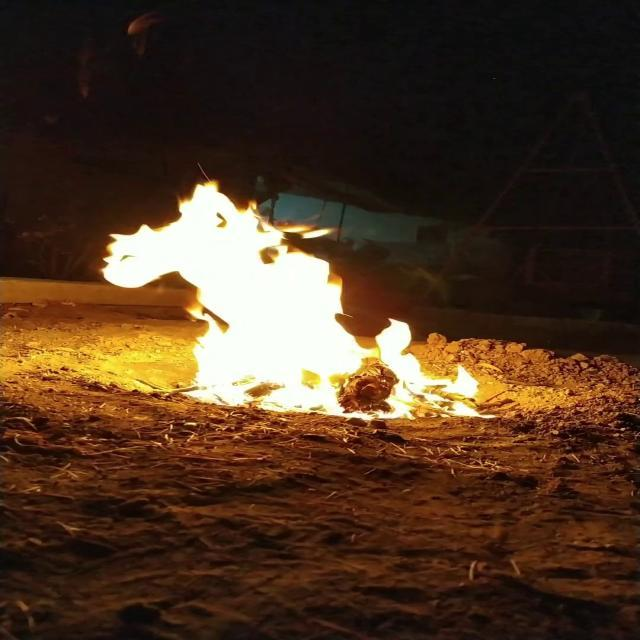Fire: (83, 176, 488, 410)
